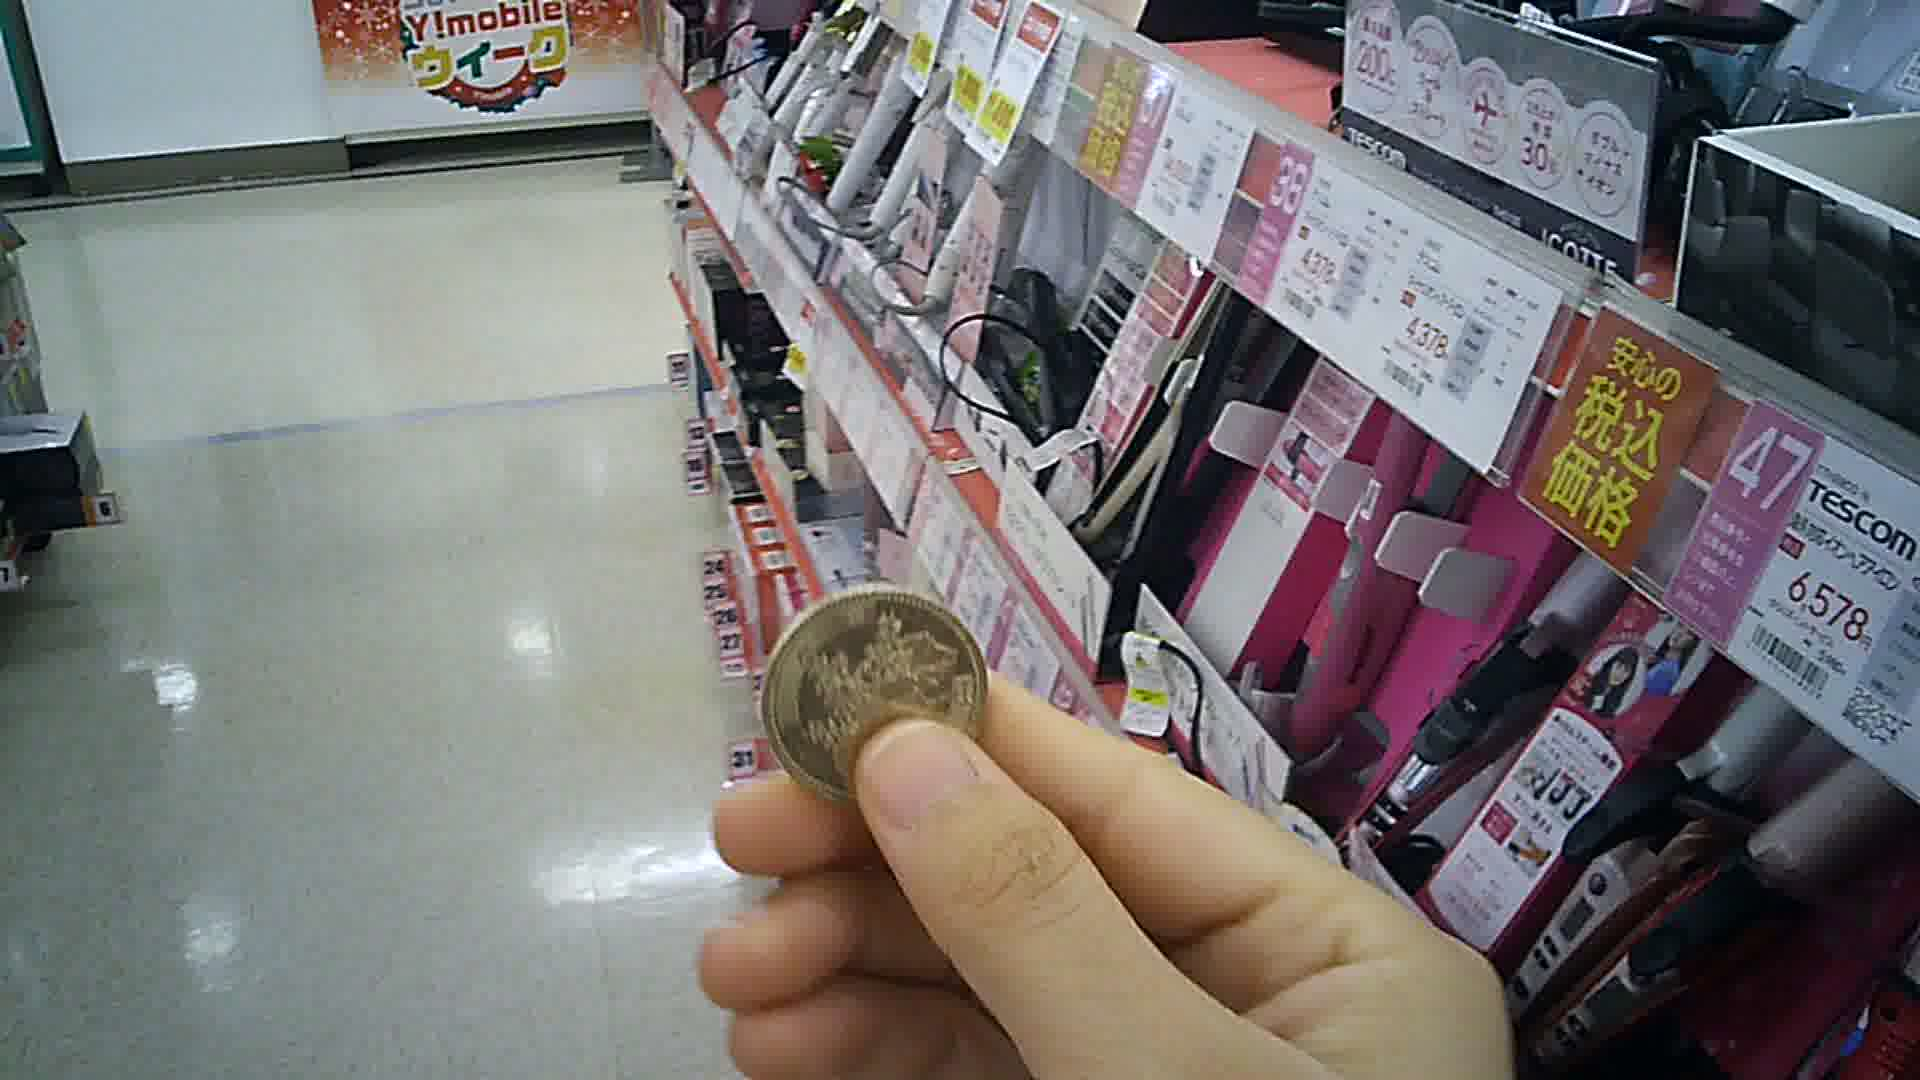500 Yen: (760, 582, 996, 803)
